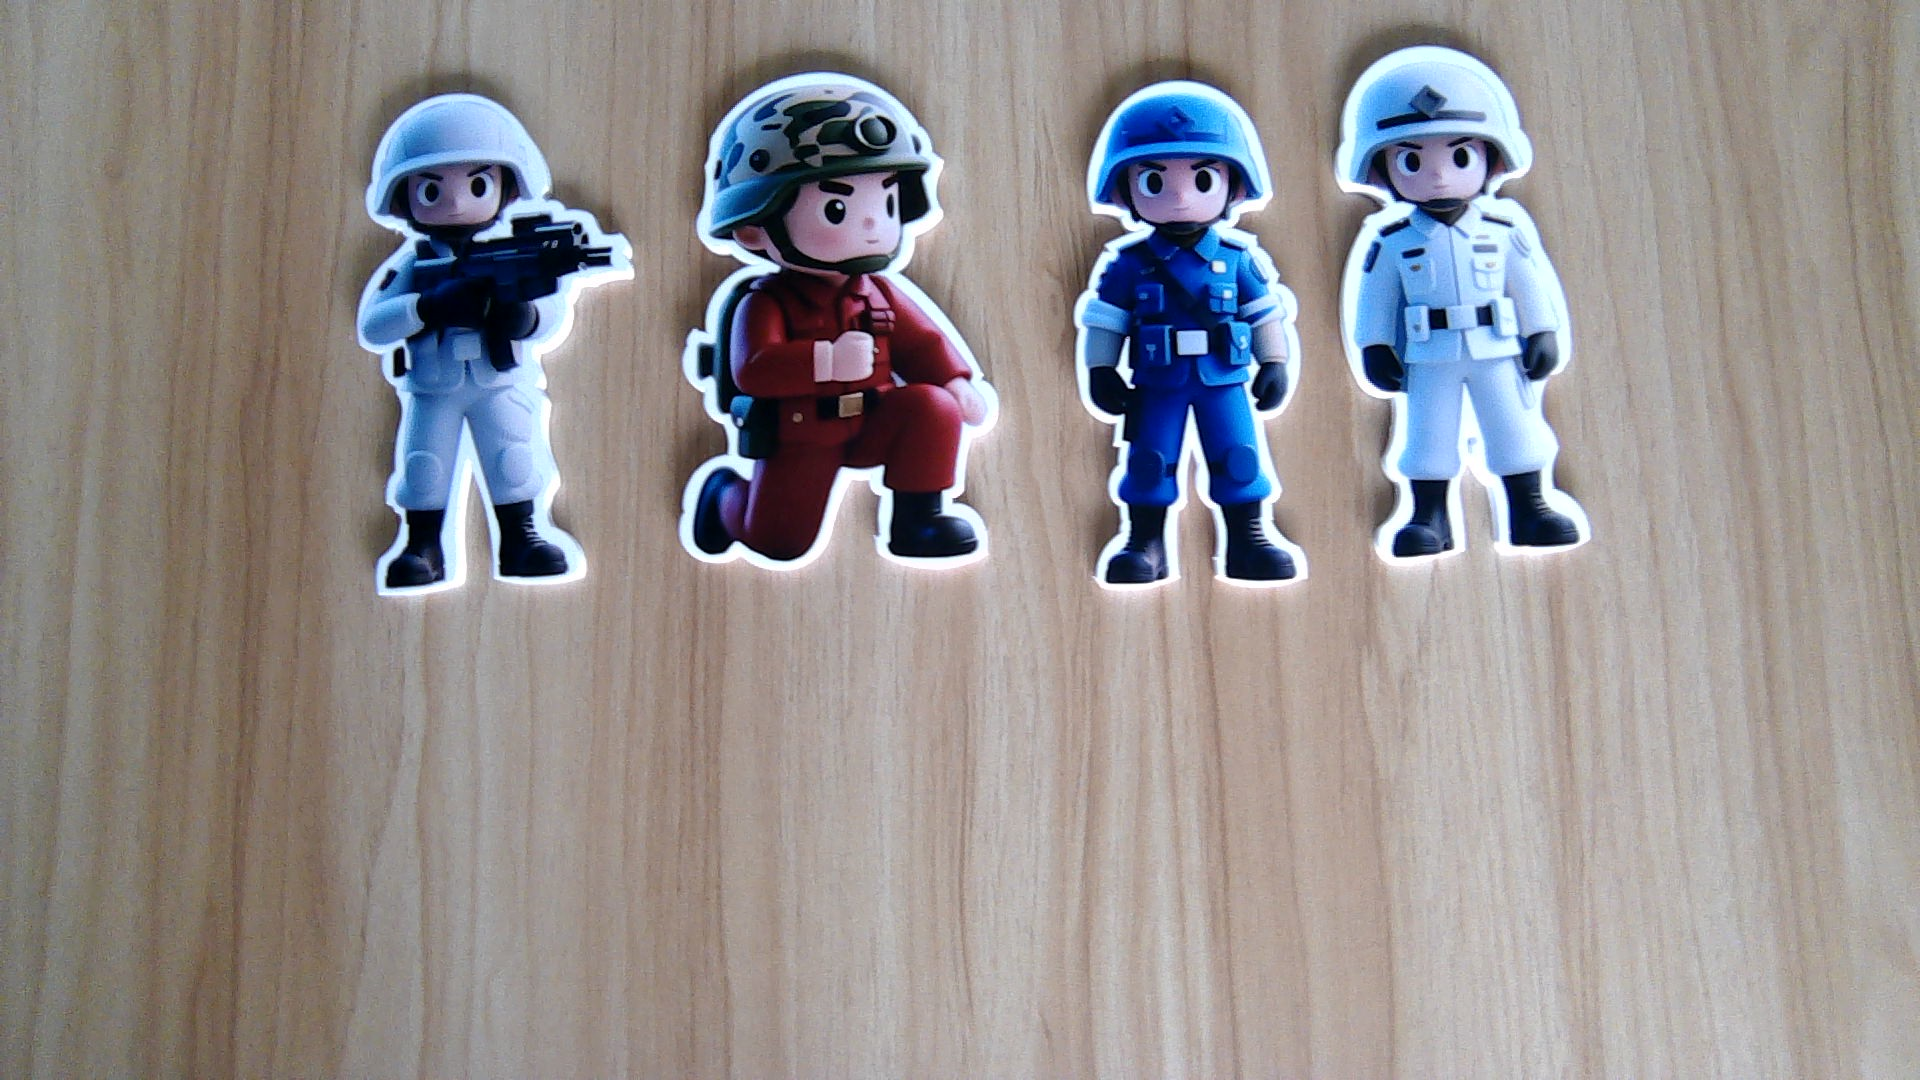人质: (349, 233, 647, 600), (1337, 210, 1601, 567)
敌人1: (665, 270, 1013, 579)
敌人2: (1067, 225, 1316, 600)
